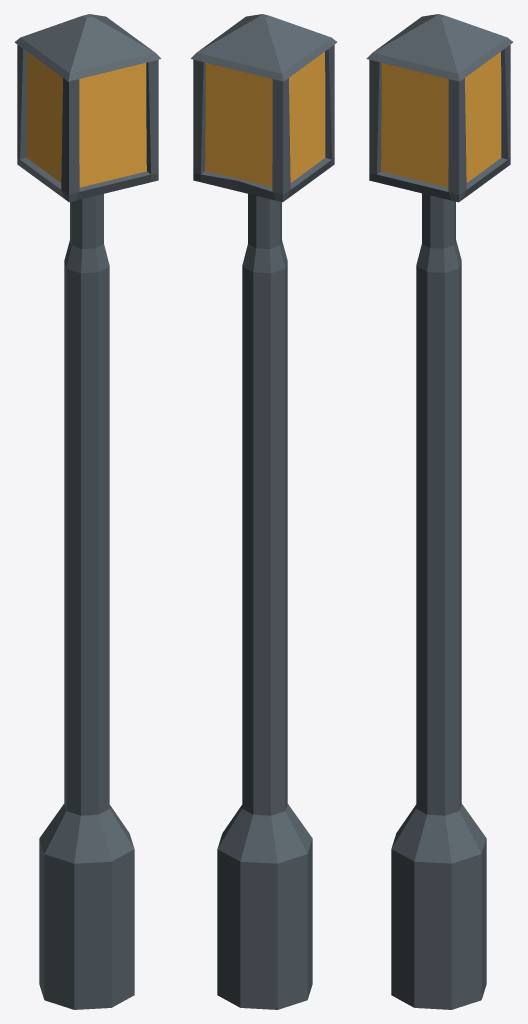
File: Streetlight_3.fbx
The picture shows the model from 3 angles, left to right: view 1: azimuth 30°, elevation 25°; view 2: azimuth 150°, elevation 25°; view 3: azimuth 330°, elevation 25°; orthographic projection.
Parts seen in each view (by area): view 1: Streetlight_3; view 2: Streetlight_3; view 3: Streetlight_3.
Boxes of the visible parts, x1,y1,x2,y2 form: Streetlight_3: (14, 14, 160, 1009); Streetlight_3: (191, 14, 337, 1009); Streetlight_3: (366, 14, 513, 1009).
Bounding box in the file's own units: 19.79 × 194 × 19.79.
